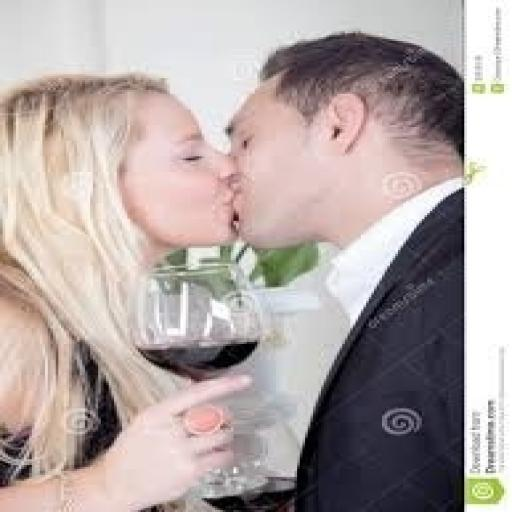hugging: (220, 29, 464, 510), (0, 70, 260, 510)
